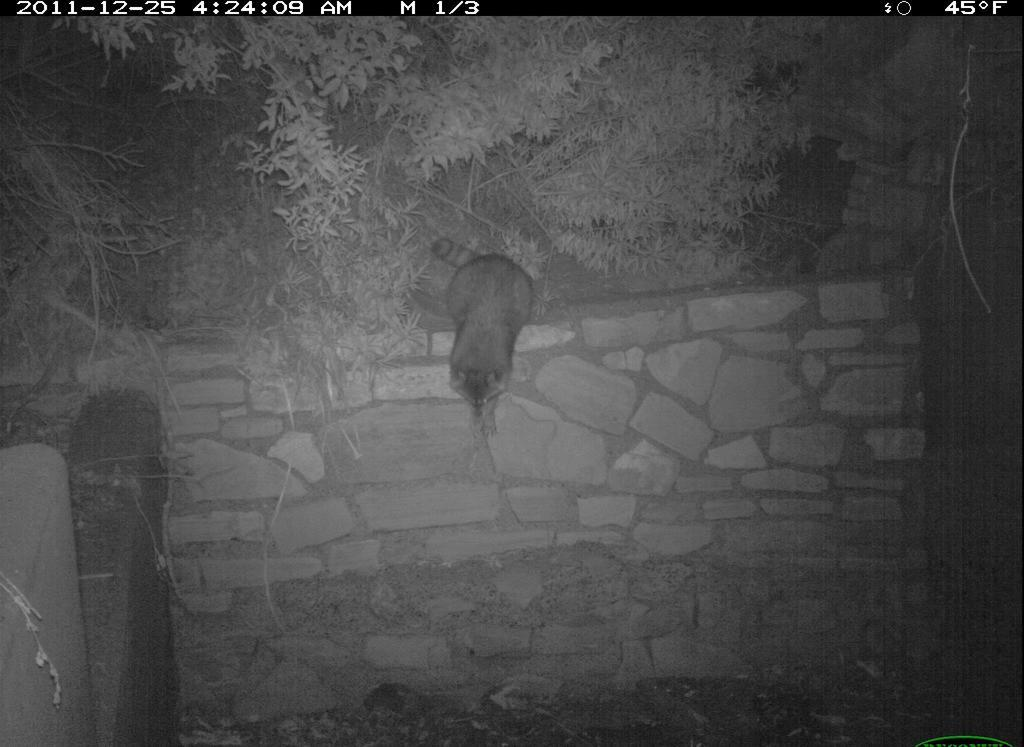raccoon: (408, 210, 562, 451)
